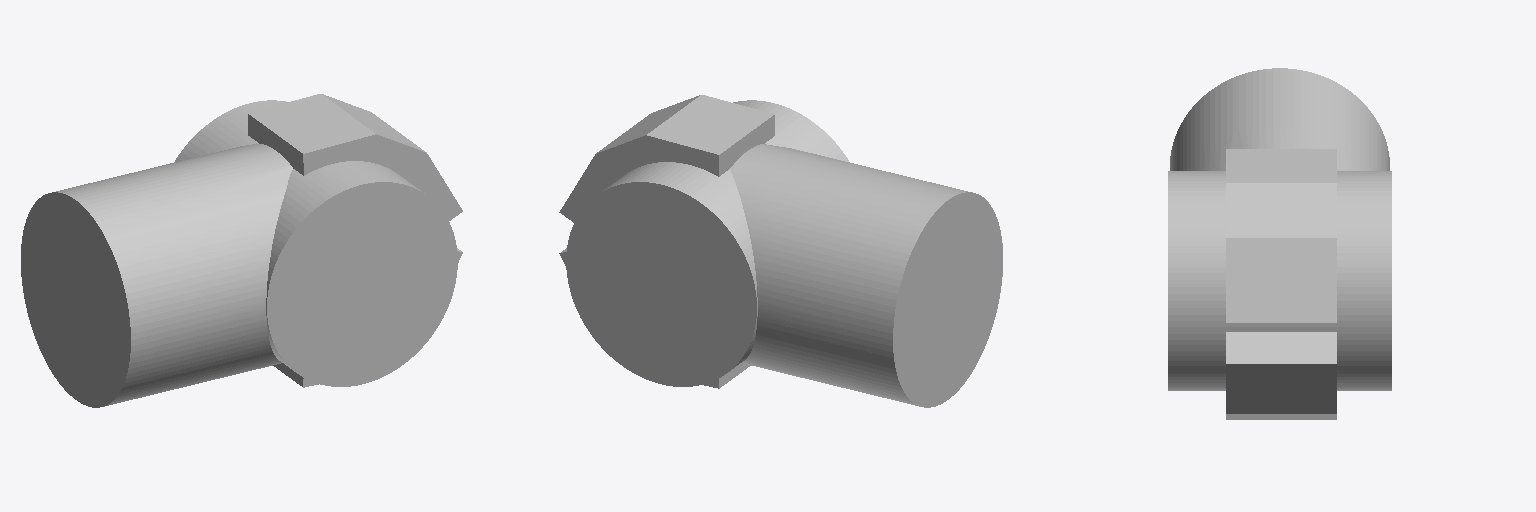
3 views of the same model, side by side, from view 1: azimuth 30°, elevation 25°; view 2: azimuth 150°, elevation 25°; view 3: azimuth 270°, elevation 25° (orthographic).
Visible parts, largest first — view 1: link_11; view 2: link_11; view 3: link_11.
Part boxes in pixels (x1,y1,x2,y2): link_11: (21,94,462,407); link_11: (559,95,1002,407); link_11: (1168,68,1391,419).
Bounding box in the file's own units: 79.26 × 49.97 × 42.5.